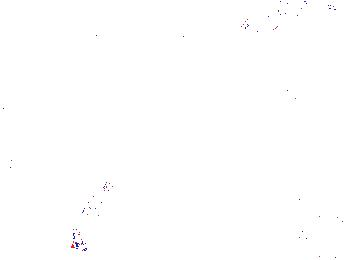glassfish: (72, 155, 134, 250), (189, 131, 262, 200)
red belly glassfish: (323, 2, 346, 16)
redtail glassfish: (239, 1, 307, 28)
